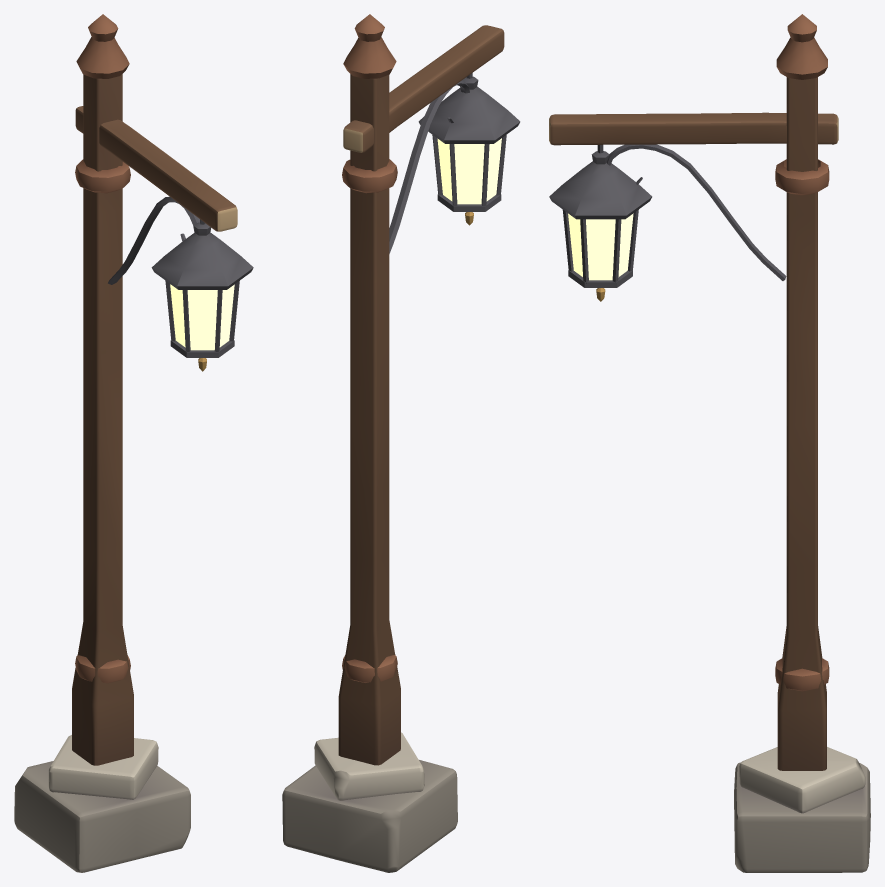
The model's file is pr_lamppost.glb.
3 renders of one model, left to right at view 1: azimuth 30°, elevation 25°; view 2: azimuth 150°, elevation 25°; view 3: azimuth 270°, elevation 25°, orthographic.
Visible parts, largest first — view 1: PR_lamppost__body; view 2: PR_lamppost__body; view 3: PR_lamppost__body.
Part boxes in pixels (bbox=[...]): PR_lamppost__body: bbox=[14, 14, 253, 872]; PR_lamppost__body: bbox=[282, 14, 520, 872]; PR_lamppost__body: bbox=[549, 14, 870, 872].
Size of the model in its own units: 0.525 by 3.56 by 1.25.
